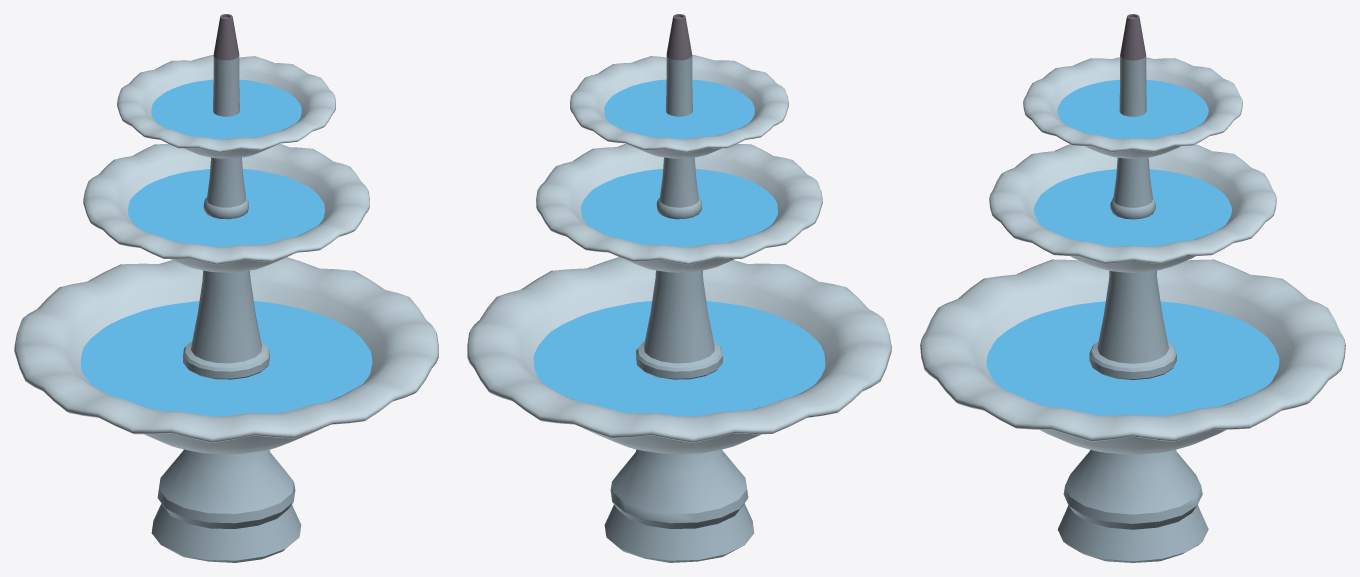
File: Fountain_03.fbx
3 renders of one model, left to right at view 1: azimuth 30°, elevation 25°; view 2: azimuth 150°, elevation 25°; view 3: azimuth 270°, elevation 25°, orthographic.
Parts seen in each view (by area): view 1: polySurface50, polySurface39, polySurface52, polySurface45, polySurface46, polySurface49, polySurface53, polySurface40; view 2: polySurface50, polySurface39, polySurface52, polySurface45, polySurface46, polySurface49, polySurface53, polySurface40; view 3: polySurface50, polySurface39, polySurface52, polySurface45, polySurface46, polySurface49, polySurface53, polySurface40.
Part boxes in pixels (<box>): polySurface50: <box>14,257,438,454</box>; polySurface39: <box>151,55,301,562</box>; polySurface52: <box>80,301,372,416</box>; polySurface45: <box>83,144,369,272</box>; polySurface46: <box>128,169,324,247</box>; polySurface49: <box>117,55,335,158</box>; polySurface53: <box>151,79,301,139</box>; polySurface40: <box>213,14,239,60</box>; polySurface50: <box>467,257,891,454</box>; polySurface39: <box>604,56,754,562</box>; polySurface52: <box>533,301,825,416</box>; polySurface45: <box>536,143,822,272</box>; polySurface46: <box>581,169,777,246</box>; polySurface49: <box>570,55,788,158</box>; polySurface53: <box>604,79,754,139</box>; polySurface40: <box>666,14,692,60</box>; polySurface50: <box>920,259,1345,454</box>; polySurface39: <box>1057,55,1208,562</box>; polySurface52: <box>986,301,1279,415</box>; polySurface45: <box>989,144,1276,272</box>; polySurface46: <box>1034,169,1231,246</box>; polySurface49: <box>1023,57,1242,158</box>; polySurface53: <box>1057,79,1208,138</box>; polySurface40: <box>1120,14,1145,60</box>.
Size of the model in its own units: 185 by 249 by 185.
2 materials, 2 textured.
